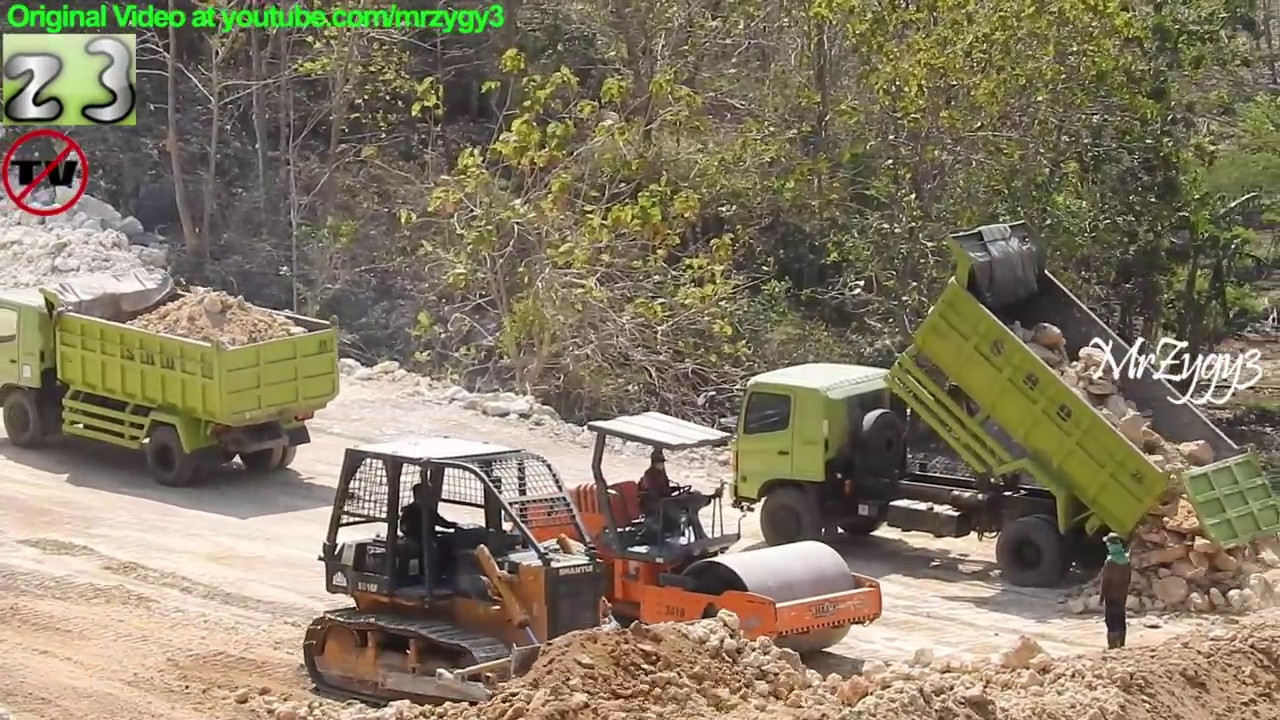bulldozer: (300, 426, 737, 720)
compactor: (495, 405, 888, 682)
truck: (710, 213, 1280, 598), (1, 261, 343, 488)
